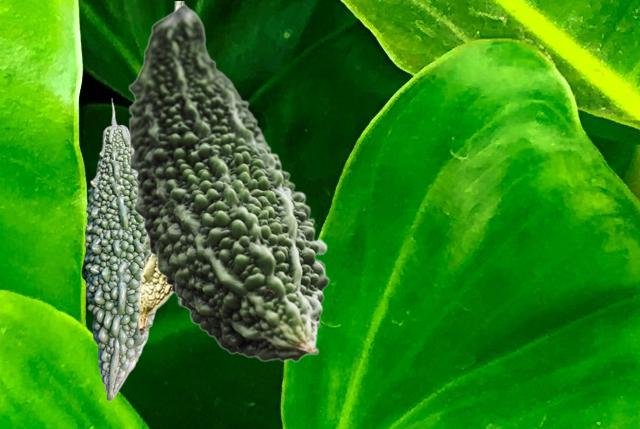ampalaya: (128, 3, 329, 361), (81, 98, 158, 400), (137, 1, 185, 337)
